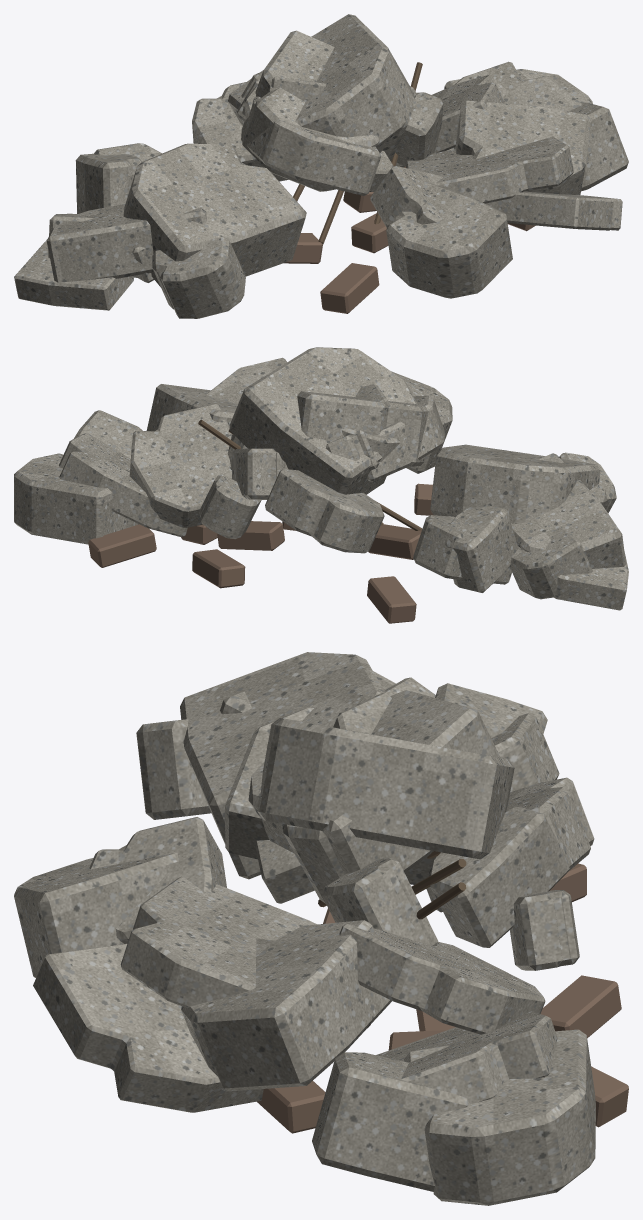
The model's file is rubble_pile_01.glb.
The picture shows the model from 3 angles, top to bottom: view 1: azimuth 30°, elevation 25°; view 2: azimuth 150°, elevation 25°; view 3: azimuth 270°, elevation 25°; orthographic projection. The views are drawn at different scales.
Visible parts, largest first — view 1: rubble_pile_01__m7_concrete, rubble_pile_01__m7_brick, rubble_pile_01__m7_rusted_rebar; view 2: rubble_pile_01__m7_concrete, rubble_pile_01__m7_brick, rubble_pile_01__m7_rusted_rebar; view 3: rubble_pile_01__m7_concrete, rubble_pile_01__m7_brick, rubble_pile_01__m7_rusted_rebar.
Boxes of the visible parts, <box> form: rubble_pile_01__m7_concrete: <box>14,14,628,318</box>; rubble_pile_01__m7_brick: <box>284,166,535,313</box>; rubble_pile_01__m7_rusted_rebar: <box>293,62,422,244</box>; rubble_pile_01__m7_concrete: <box>14,347,628,610</box>; rubble_pile_01__m7_brick: <box>88,483,434,623</box>; rubble_pile_01__m7_rusted_rebar: <box>198,419,422,530</box>; rubble_pile_01__m7_concrete: <box>14,652,595,1205</box>; rubble_pile_01__m7_brick: <box>257,863,628,1133</box>; rubble_pile_01__m7_rusted_rebar: <box>318,851,466,919</box>.
Bounding box in the file's own units: 2.45 × 0.7999 × 1.45.
3 materials, 1 textured.
